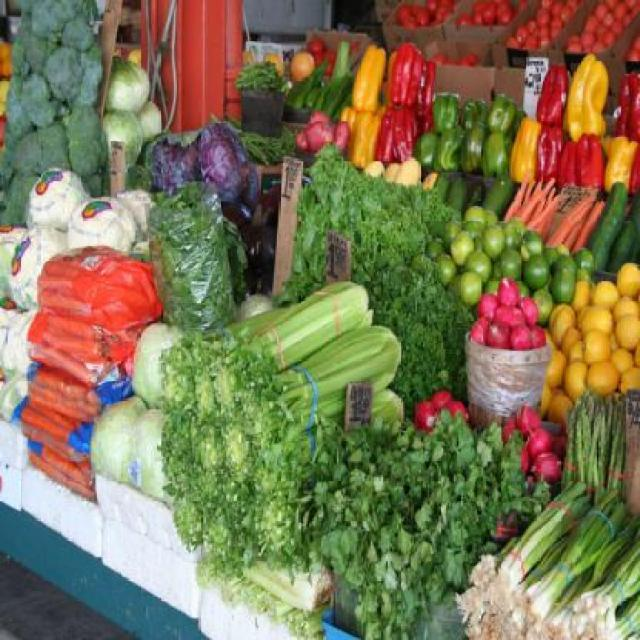Broccoli: (0, 0, 109, 228)
